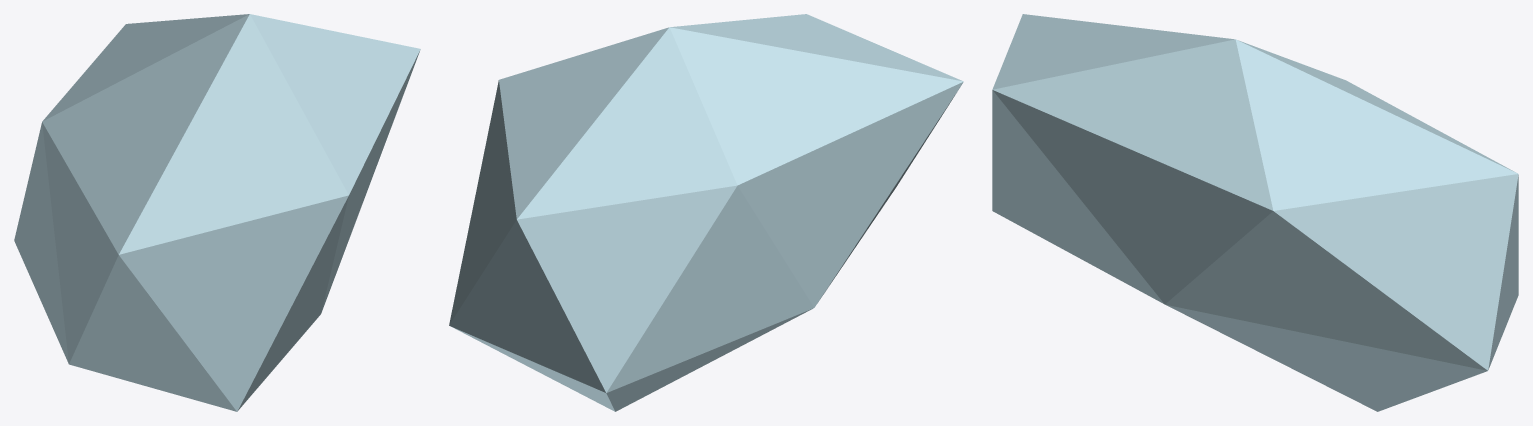
3 views of the same model, side by side, from view 1: azimuth 30°, elevation 25°; view 2: azimuth 150°, elevation 25°; view 3: azimuth 270°, elevation 25° (orthographic). The views are drawn at different scales.
Parts seen in each view (by area): view 1: Icosphere; view 2: Icosphere; view 3: Icosphere.
Part boxes in pixels (bbox=[...]): Icosphere: bbox=[14, 14, 420, 411]; Icosphere: bbox=[449, 14, 963, 411]; Icosphere: bbox=[992, 14, 1518, 411].
Bounding box in the file's own units: 551 × 480 × 436.
